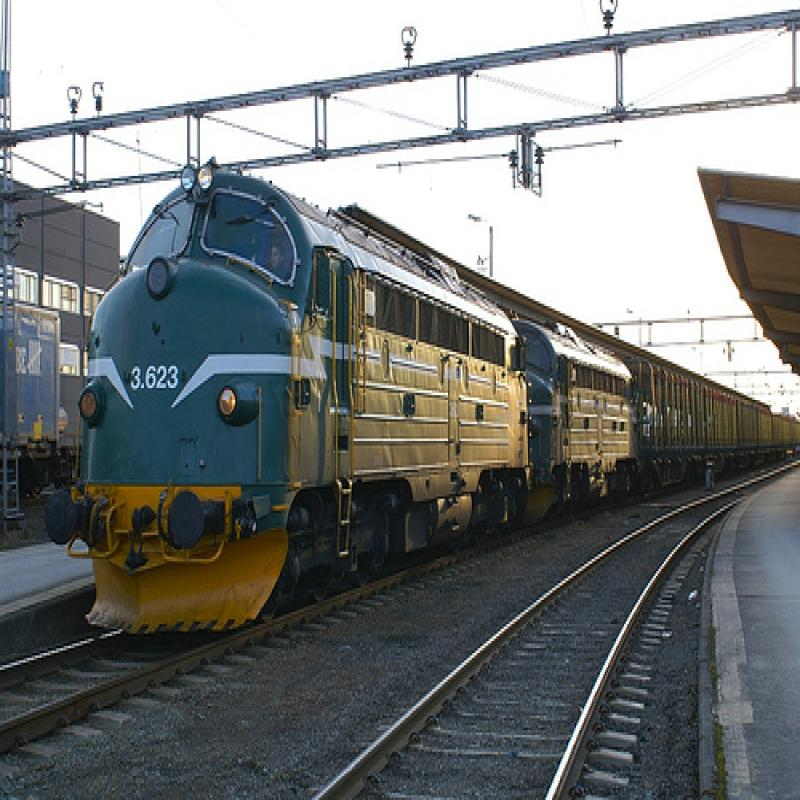train: (43, 148, 800, 635)
